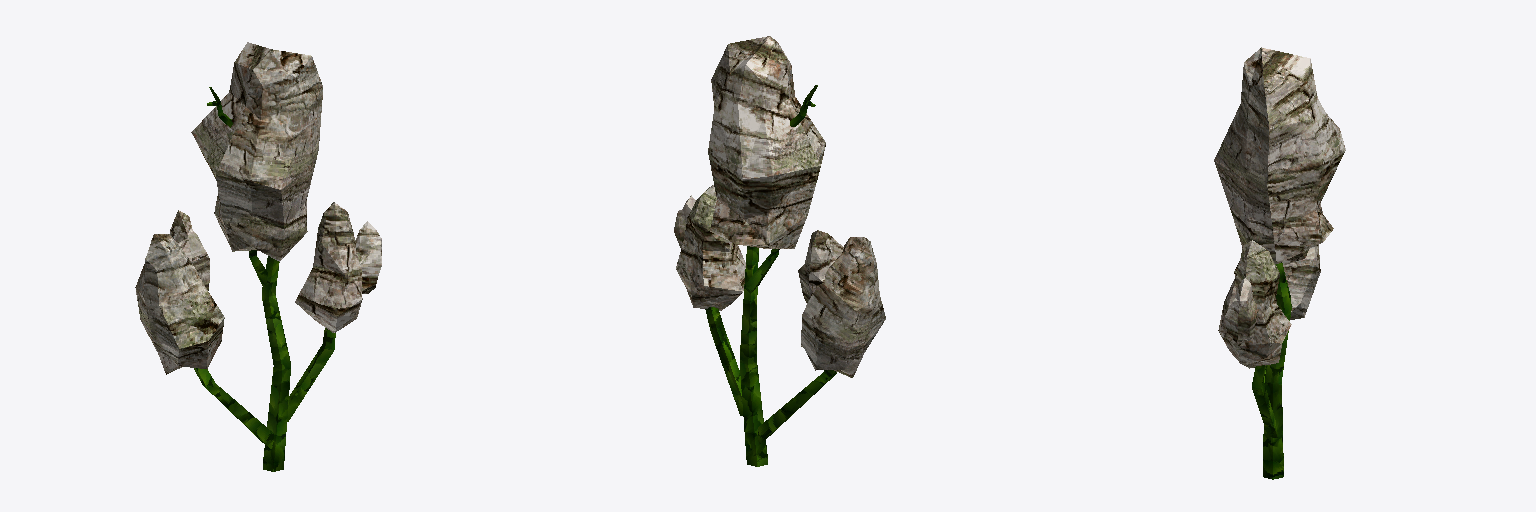
3 views of the same model, side by side, from view 1: azimuth 30°, elevation 25°; view 2: azimuth 150°, elevation 25°; view 3: azimuth 270°, elevation 25° (orthographic).
Parts seen in each view (by area): view 1: Tree_temp_climate_010_Mesh.009; view 2: Tree_temp_climate_010_Mesh.009; view 3: Tree_temp_climate_010_Mesh.009.
Part boxes in pixels (x1,y1,x2,y2): Tree_temp_climate_010_Mesh.009: (135, 42, 381, 471); Tree_temp_climate_010_Mesh.009: (674, 36, 885, 466); Tree_temp_climate_010_Mesh.009: (1214, 47, 1345, 479).
Bounding box in the file's own units: 3.07 × 5.7 × 1.61.
1 materials, 1 textured.